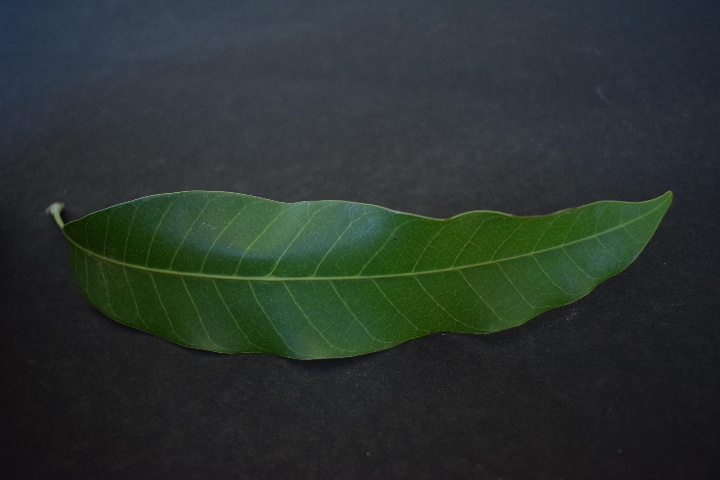healthy: (69, 187, 650, 351)
